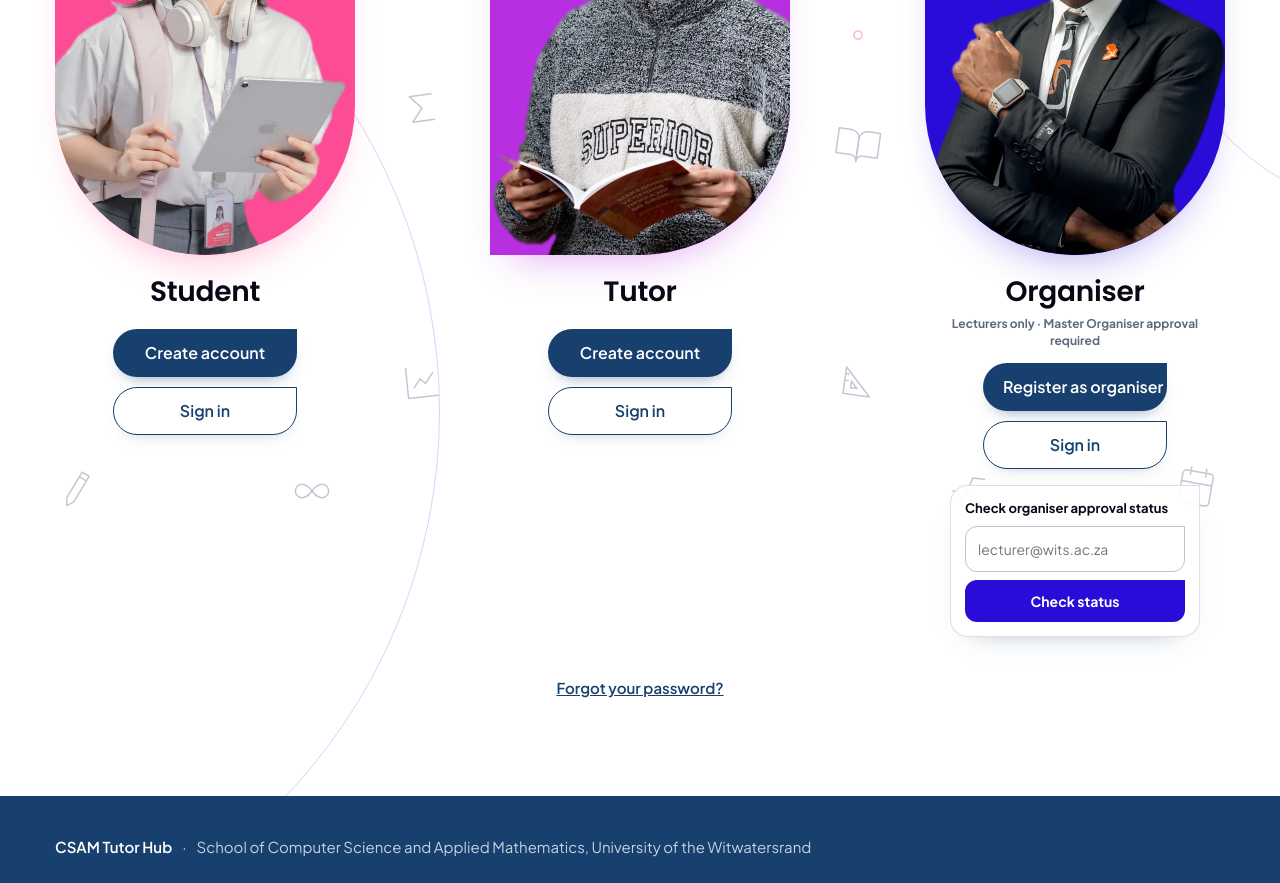
Test: Auth entry flow › lets a lecturer check organiser approval status by email without signing in
The width and height of the screenshot is (1280, 883).
(page scrolled)
In the field labelled "Check organiser approval status": coordinates (1075, 549) top-left (965, 526), bottom-right (1185, 572), type "Lecturer@Wits.ac.za"
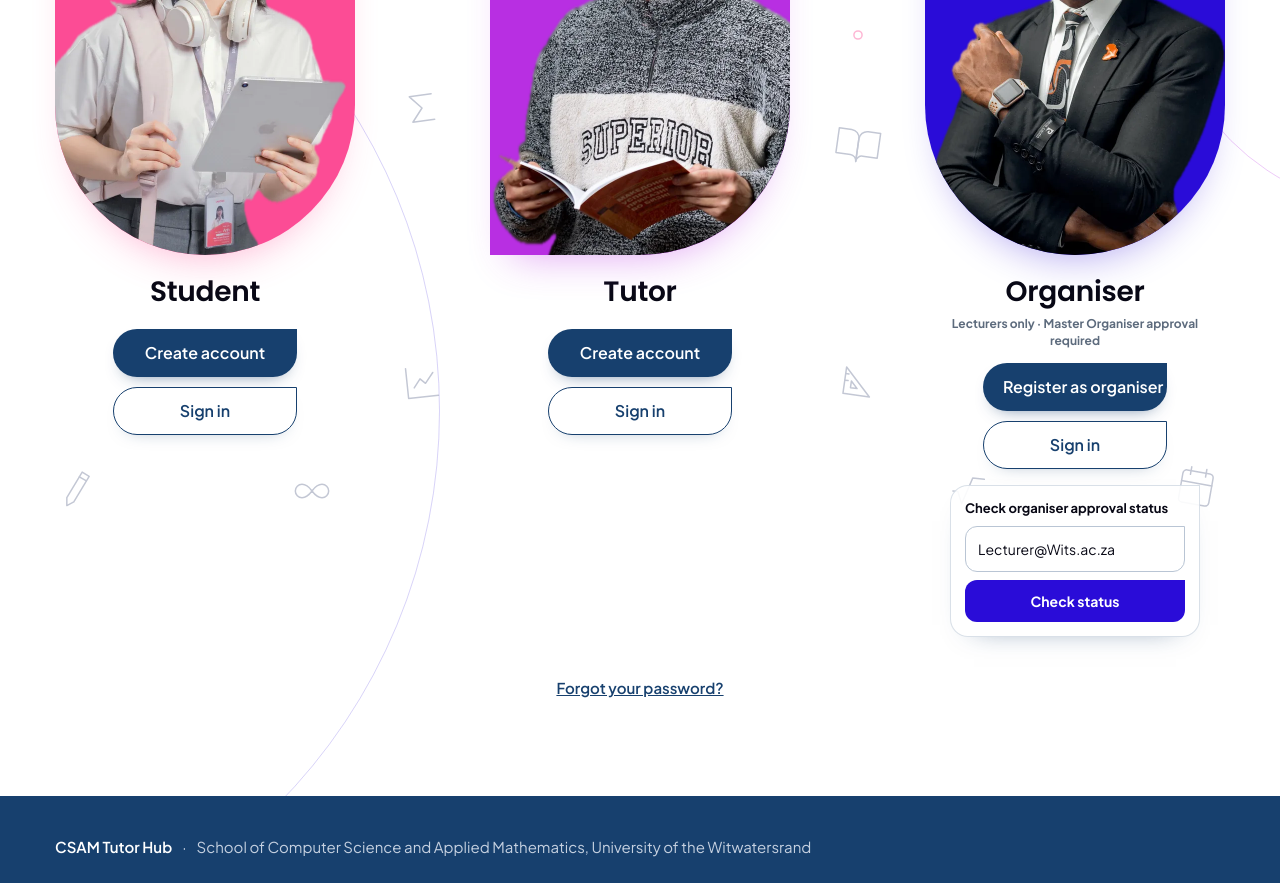
Click the button "Check status": coordinates (1075, 601) top-left (965, 580), bottom-right (1185, 622)
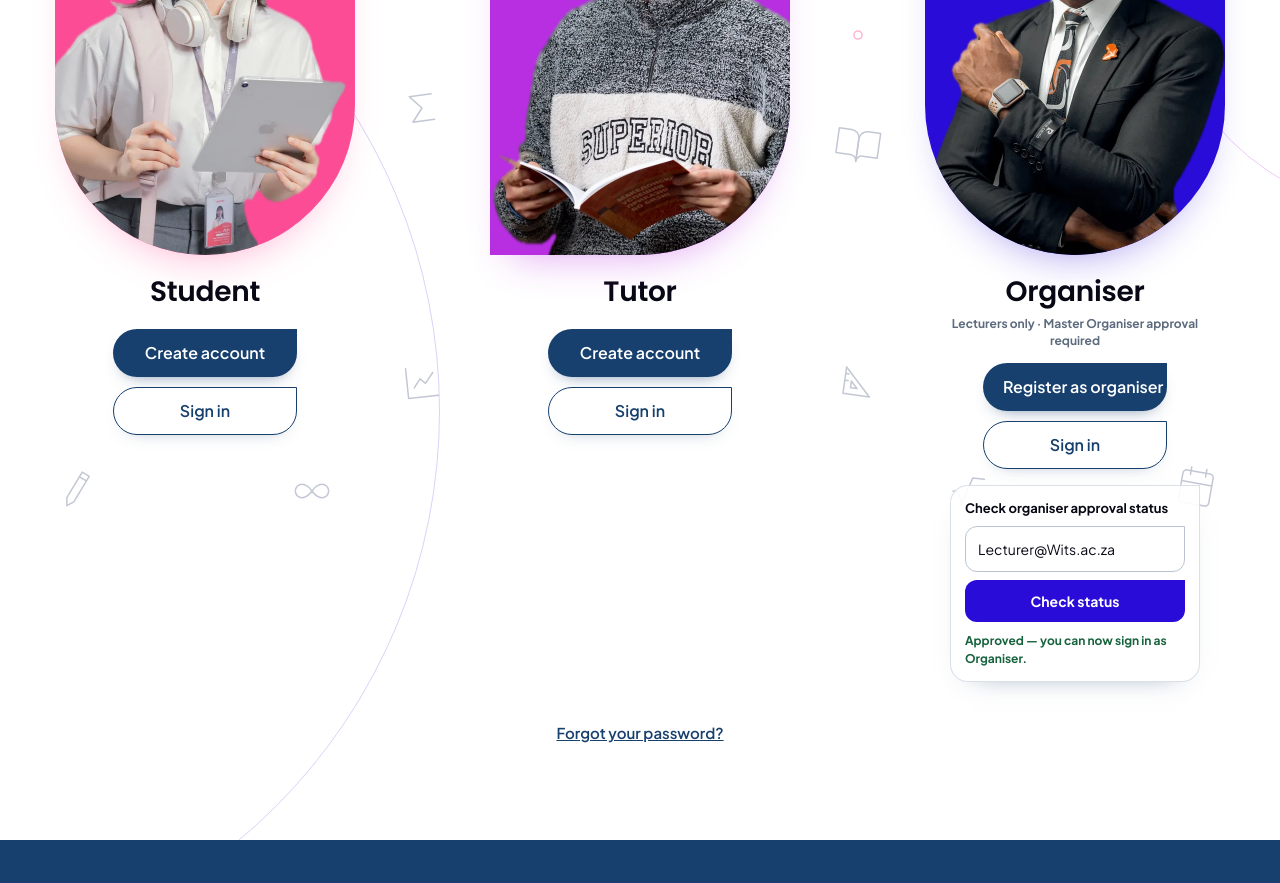
Expected: the text "Approved — you can now sign in as Organiser." is shown, top-left (965, 632), bottom-right (1185, 667)
